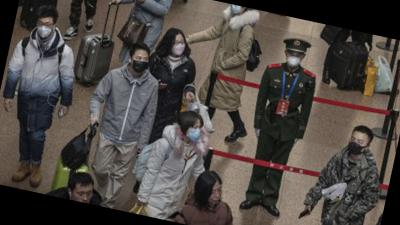with_mask: (346, 134, 368, 158), (33, 18, 57, 40), (130, 53, 152, 75), (182, 121, 203, 144), (283, 50, 304, 71), (168, 37, 188, 58)
without_mask: (206, 185, 225, 206), (74, 187, 94, 204)
